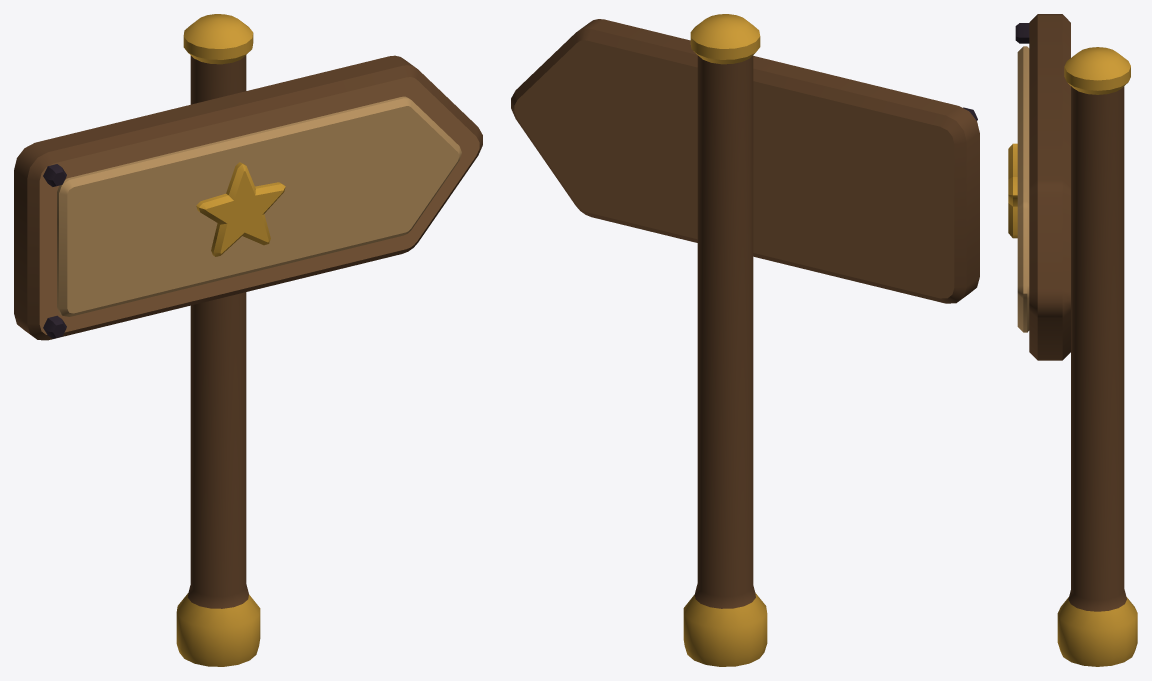
Rendered from Sign_20.glb.
The picture shows the model from 3 angles, left to right: view 1: azimuth 30°, elevation 25°; view 2: azimuth 150°, elevation 25°; view 3: azimuth 270°, elevation 25°; orthographic projection. The views are drawn at different scales.
Parts seen in each view (by area): view 1: Sign_20; view 2: Sign_20; view 3: Sign_20.
Part boxes in pixels (x1,y1,x2,y2): Sign_20: (14,14,482,666); Sign_20: (511,14,979,666); Sign_20: (1008,14,1137,666).
Size of the model in its own units: 2.62 by 3.47 by 0.68.
